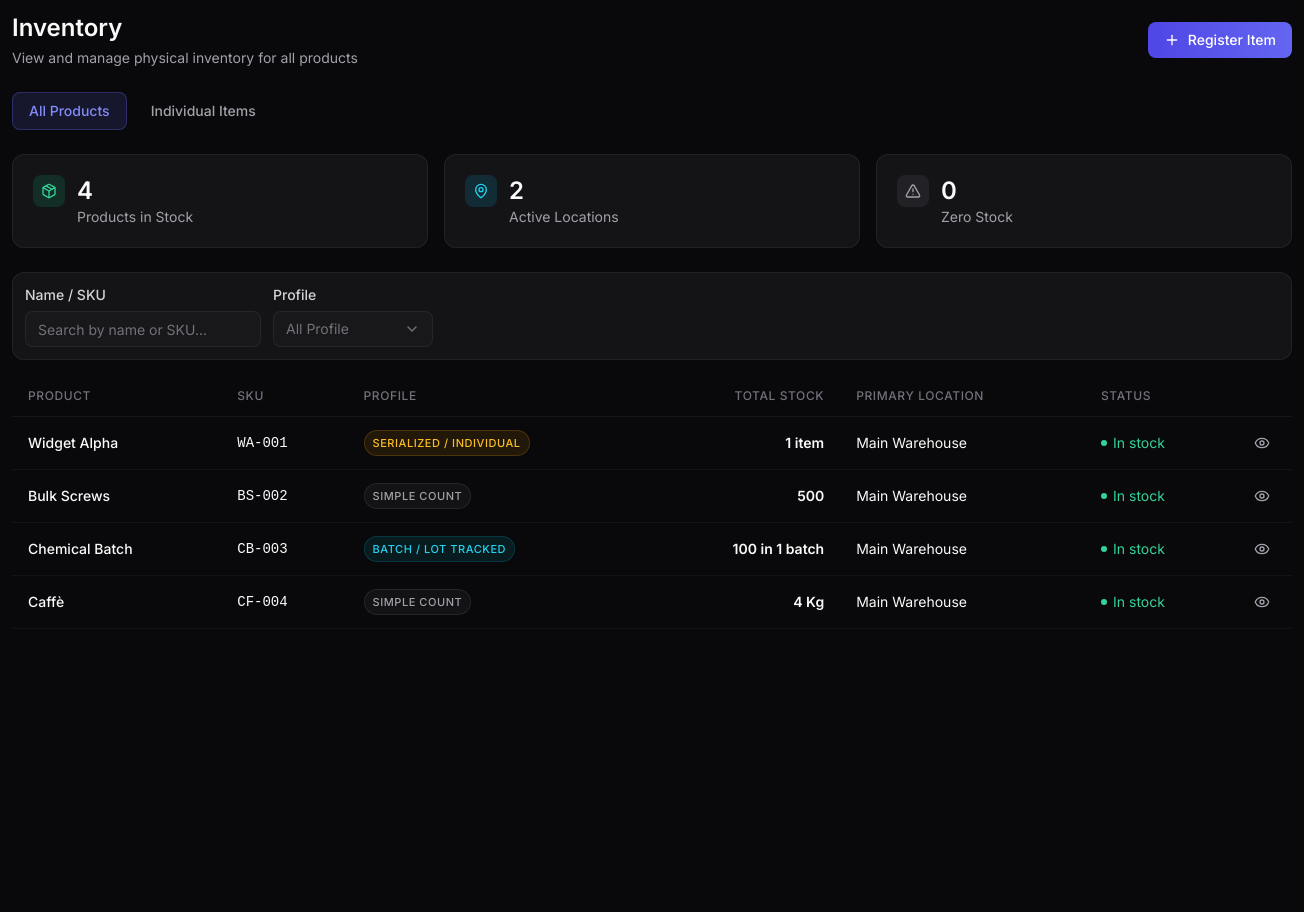
it: PhysicalProductList › expands row to show location breakdown on toggle click
This screenshot has width=1304, height=912.
# Click first expand button
Click the button named "Expand locations" in the row of "Widget Alpha": click(1262, 443) [1248,429,1276,457]
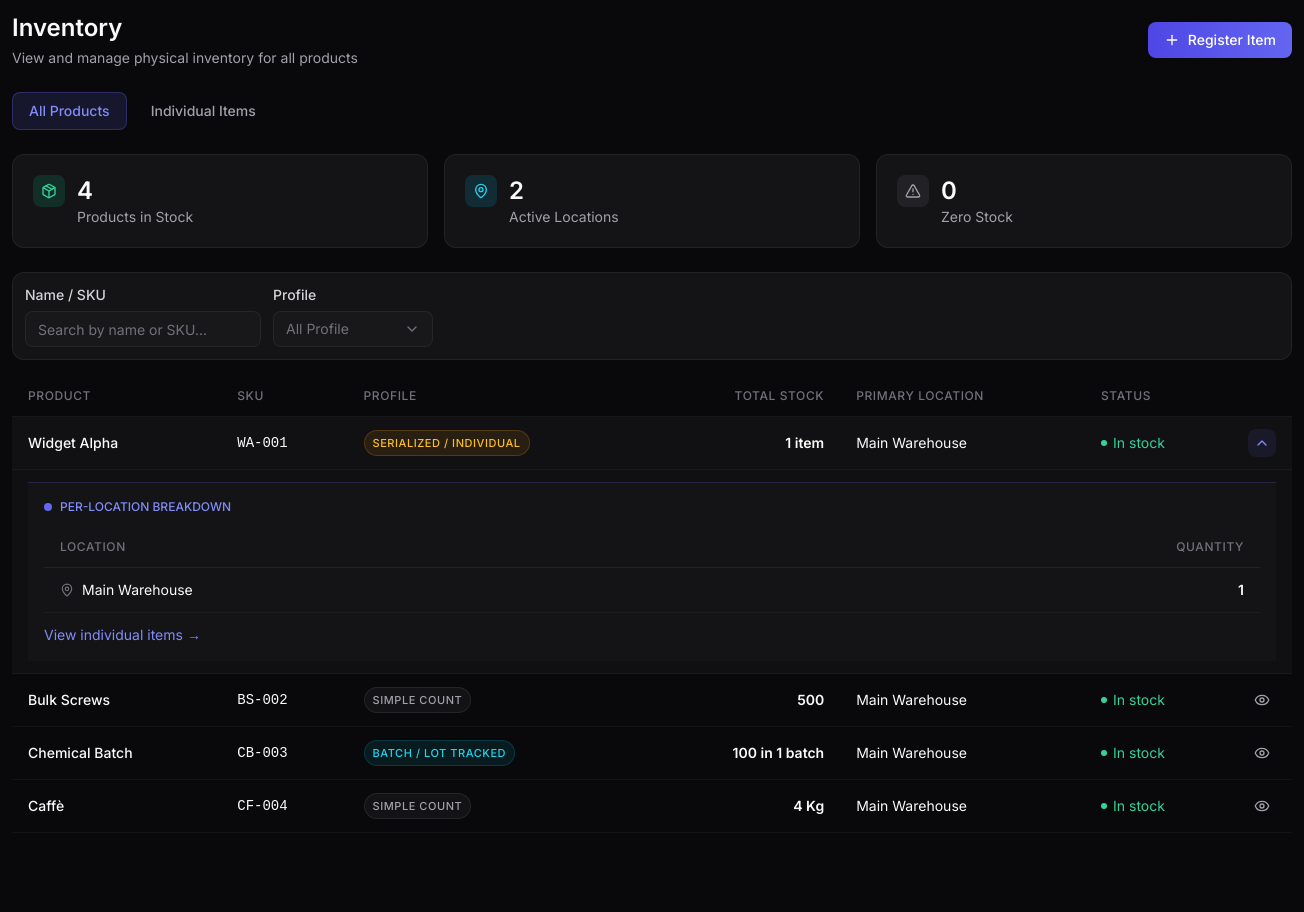
Check: the heading "Per-Location Breakdown" is shown, box [44,499,231,514]
